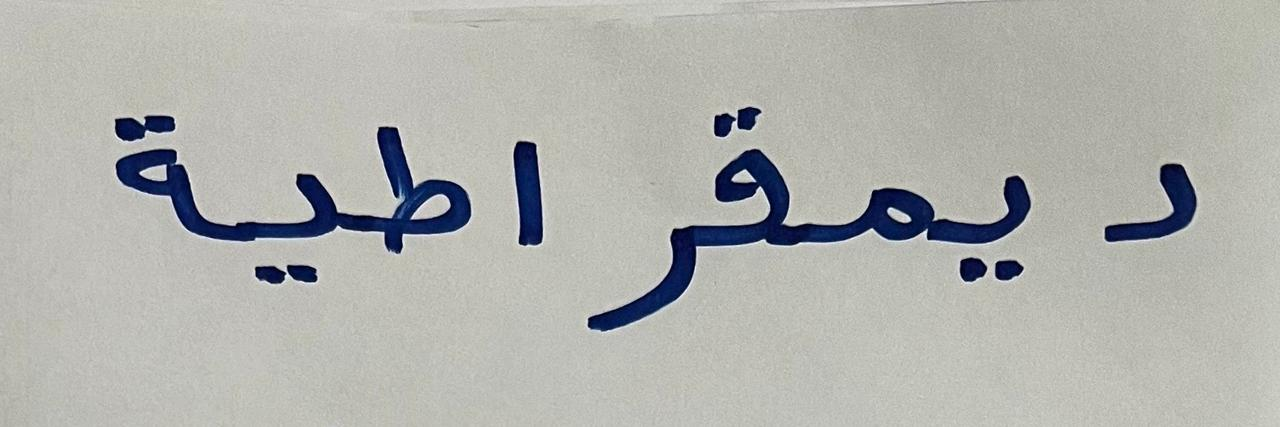alef: (490, 91, 562, 282)
dal: (1059, 90, 1259, 340)
meem: (814, 121, 936, 324)
qaf: (697, 73, 806, 318)
reh: (566, 147, 694, 342)
tah: (349, 102, 482, 288)
teh_marbota: (79, 54, 204, 276)
yeh: (208, 109, 345, 343), (942, 108, 1053, 328)
